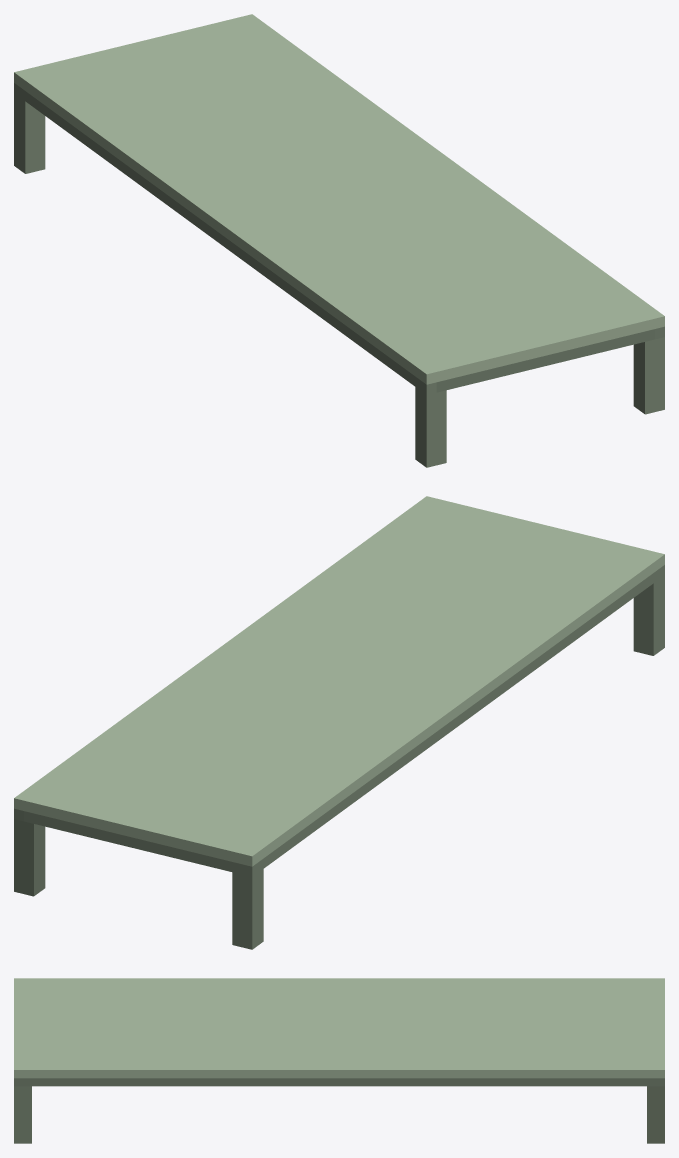
The model's file is mesa_comedor_larga_desgastada_01.glb.
3 renders of one model, top to bottom at view 1: azimuth 30°, elevation 25°; view 2: azimuth 150°, elevation 25°; view 3: azimuth 270°, elevation 25°, orthographic. The views are drawn at different scales.
Visible parts, largest first — view 1: mesa_comedor_larga_desgastada; view 2: mesa_comedor_larga_desgastada; view 3: mesa_comedor_larga_desgastada.
Part boxes in pixels (<box>): mesa_comedor_larga_desgastada: <box>14,14,664,467</box>; mesa_comedor_larga_desgastada: <box>14,496,664,949</box>; mesa_comedor_larga_desgastada: <box>14,978,664,1143</box>.
Bounding box in the file's own units: 2 × 0.75 × 6.
